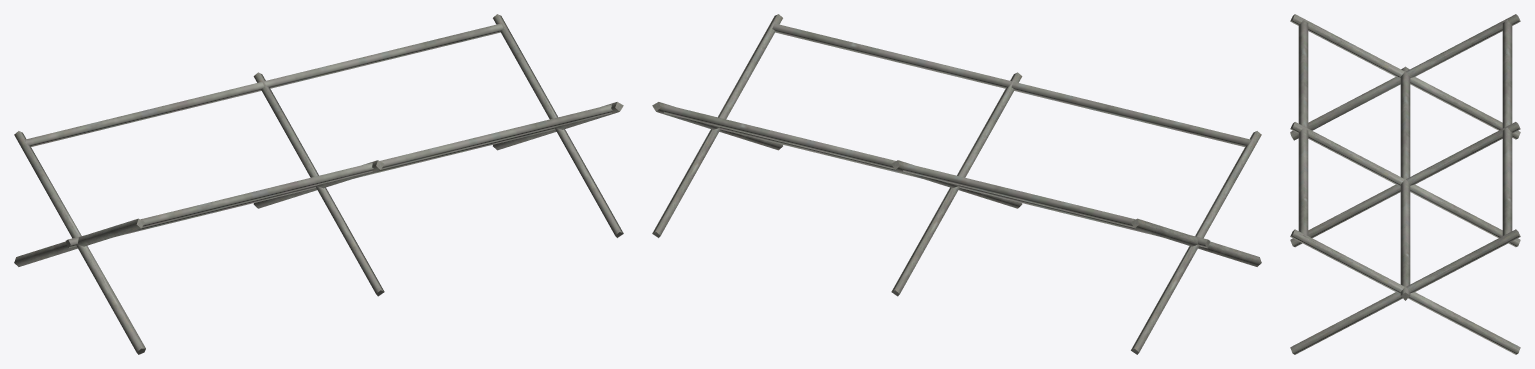
File: eqp_camping_cot_l1.fbx
3 renders of one model, left to right at view 1: azimuth 30°, elevation 25°; view 2: azimuth 150°, elevation 25°; view 3: azimuth 270°, elevation 25°, orthographic. The views are drawn at different scales.
Visible parts, largest first — view 1: mesh_node; view 2: mesh_node; view 3: mesh_node.
Part boxes in pixels (x1=…): mesh_node: x1=14, y1=14, x2=623, y2=354; mesh_node: x1=652, y1=14, x2=1261, y2=354; mesh_node: x1=1290, y1=14, x2=1520, y2=354.
Size of the model in its own units: 2.01 by 0.5221 by 0.8678.
1 material, 1 textured.
